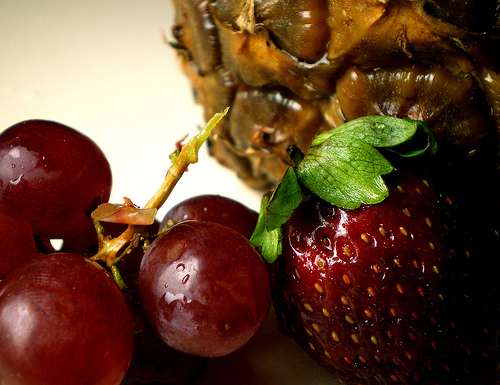pineapple: (161, 0, 498, 207)
